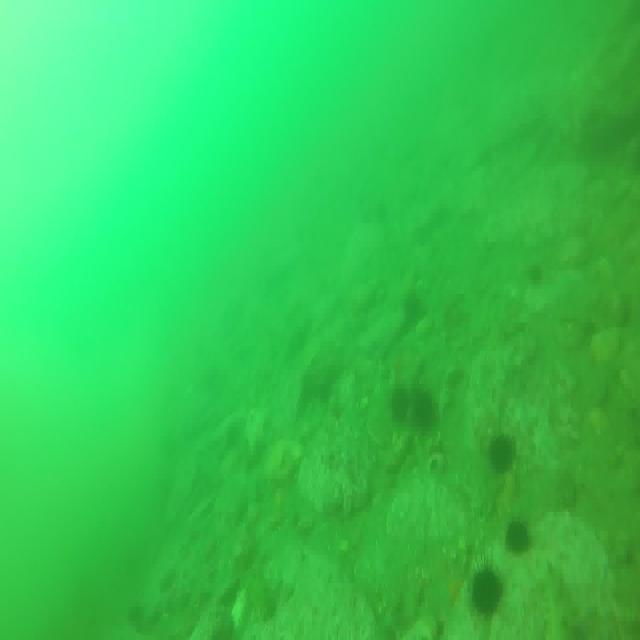echinus: (472, 560, 502, 620), (411, 388, 438, 435), (390, 383, 415, 429), (490, 434, 515, 479), (505, 518, 533, 558)
holothurian: (243, 574, 275, 618)
